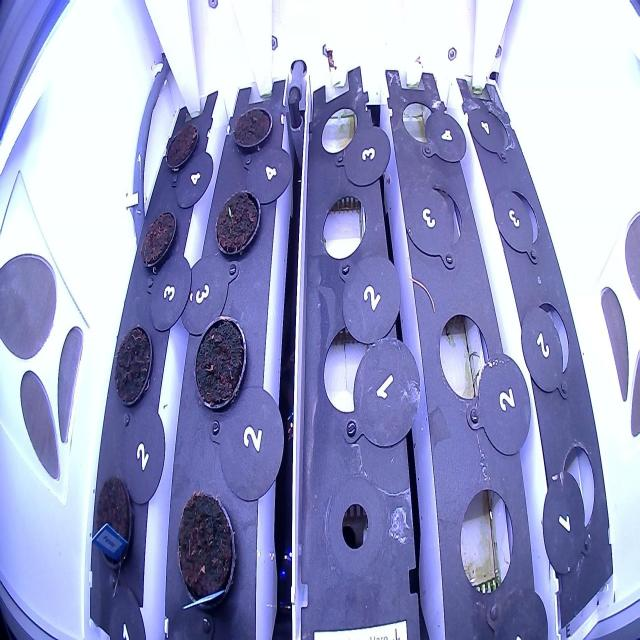empty_pod: (454, 482, 518, 602), (318, 323, 386, 423), (436, 305, 494, 410), (554, 434, 602, 548), (524, 293, 575, 392), (413, 177, 467, 255), (318, 190, 368, 266), (497, 181, 544, 258), (467, 96, 513, 164), (318, 104, 361, 156), (400, 96, 441, 149)
germination: (208, 187, 263, 266)
pod: (170, 481, 238, 617), (189, 311, 250, 416), (90, 471, 136, 574), (112, 314, 153, 414), (138, 203, 178, 280), (160, 115, 201, 180), (230, 100, 274, 160)
